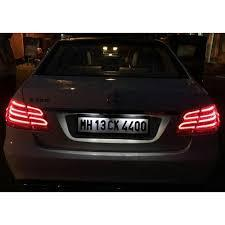licence-plate: (73, 113, 152, 134)
